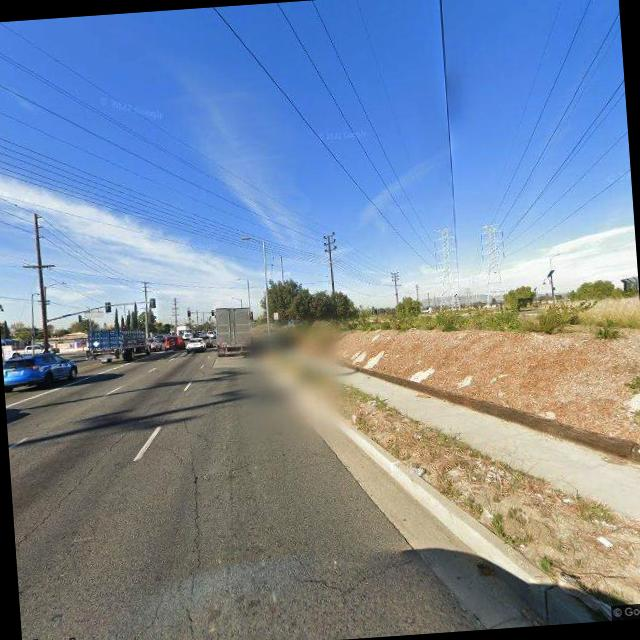pothole: (9, 417, 146, 544), (157, 420, 210, 637)
